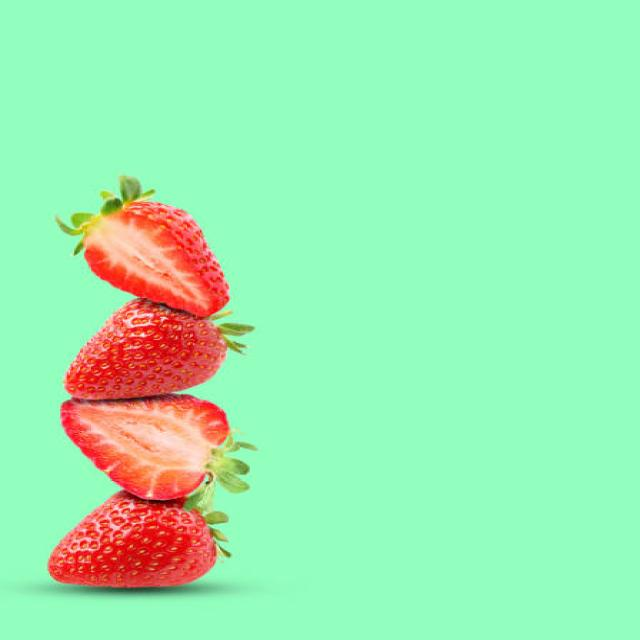Healthy Fruit: (46, 490, 217, 586), (65, 297, 225, 399)
